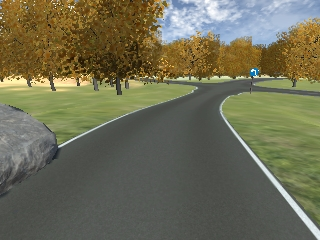left: (249, 69, 258, 77)
